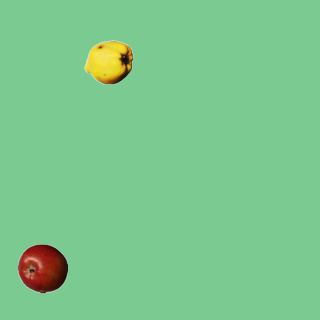Apple Braeburn: (17, 243, 67, 293)
Quince: (83, 37, 133, 87)
